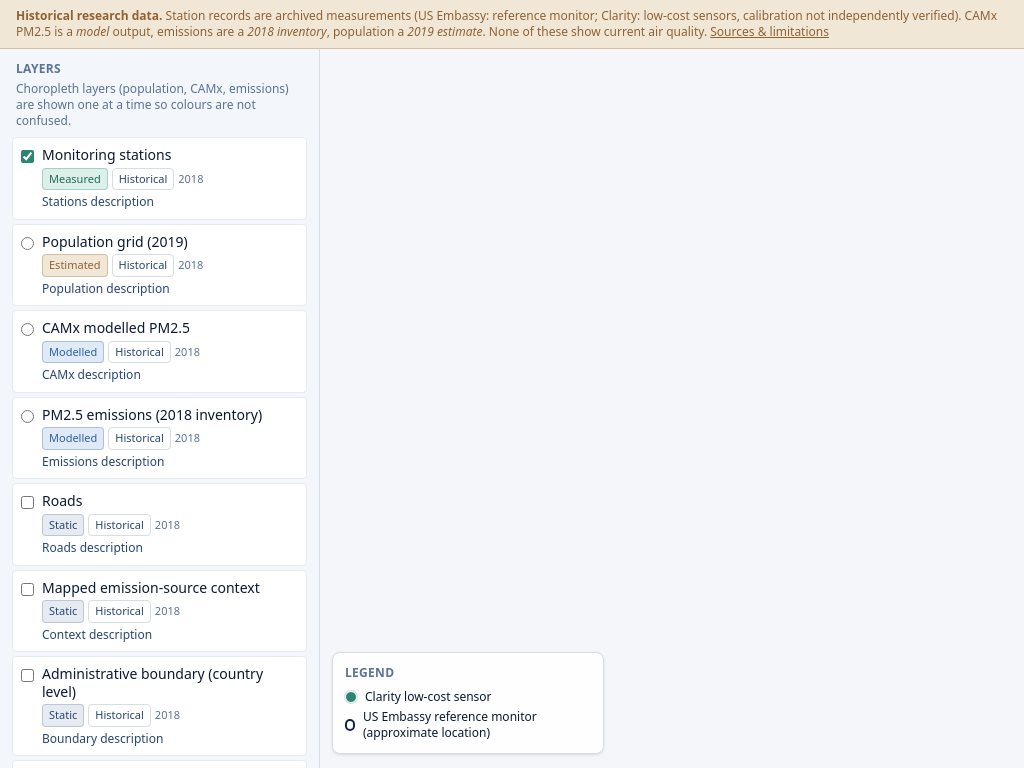
Test: AirQualityMap page › shows an error when a layer fails and keeps the map usable
Expected: the text "CAMx description" is shown, [42,366,141,383]
Step 1. Click the checkbox labelled "Roads" → (28, 502), box [21,496,34,509]
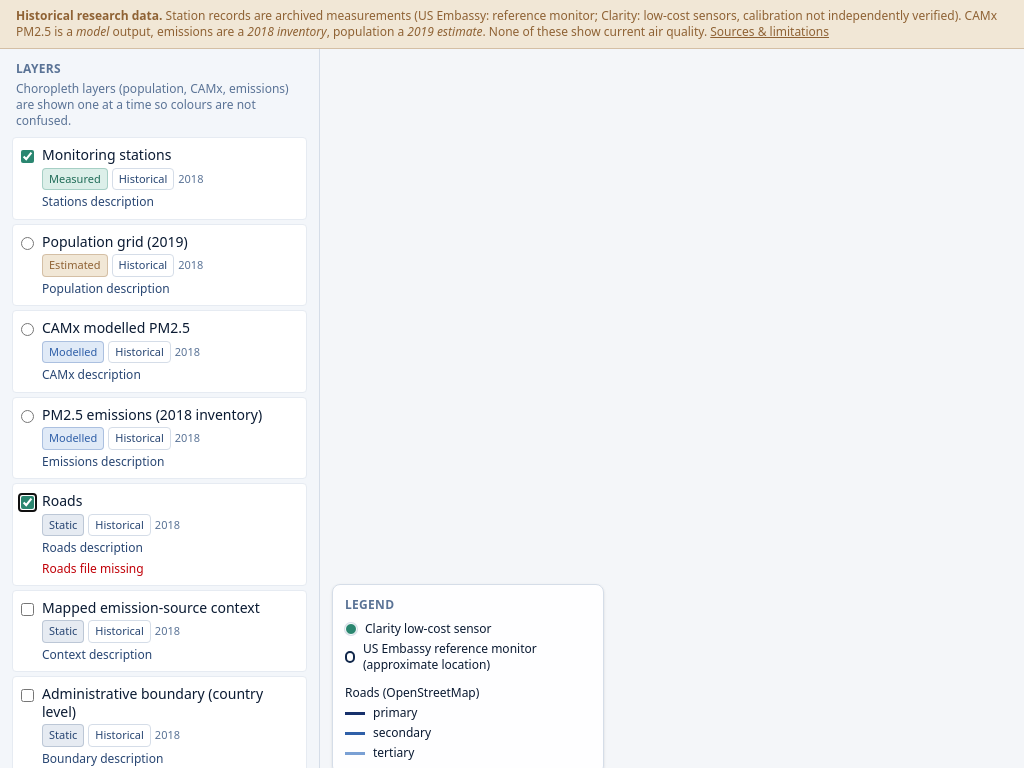
Expected: the text "Roads file missing" is shown, [42,560,144,576]
